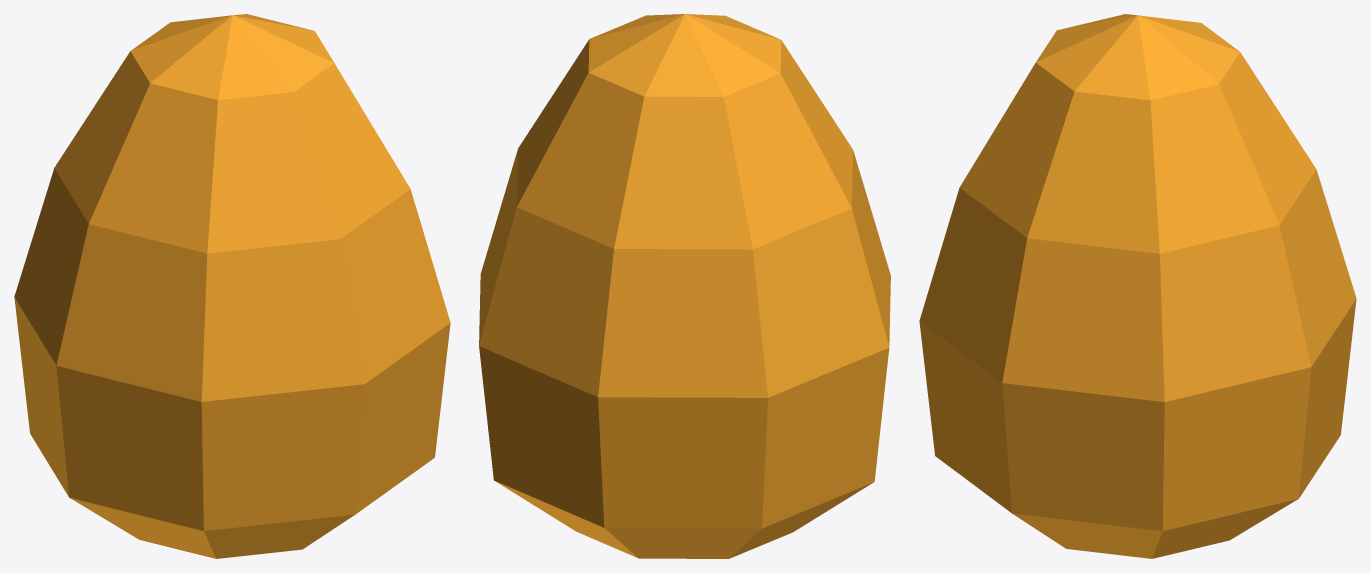
The model's file is SM_Egg.fbx.
3 renders of one model, left to right at view 1: azimuth 30°, elevation 25°; view 2: azimuth 150°, elevation 25°; view 3: azimuth 270°, elevation 25°, orthographic.
Visible parts, largest first — view 1: egg; view 2: egg; view 3: egg.
Part boxes in pixels (<box>): egg: <box>14,14,450,558</box>; egg: <box>479,14,890,558</box>; egg: <box>919,14,1356,558</box>.
Size of the model in its own units: 0.0731 by 0.0975 by 0.0731.
